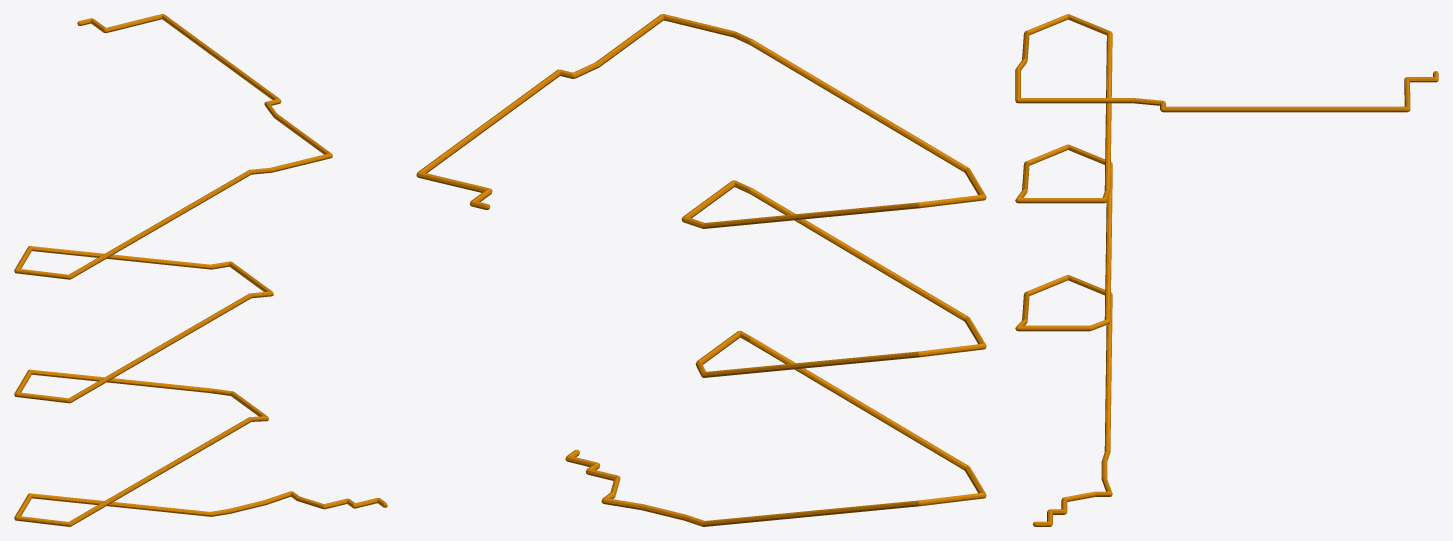
3 renders of one model, left to right at view 1: azimuth 30°, elevation 25°; view 2: azimuth 150°, elevation 25°; view 3: azimuth 270°, elevation 25°, orthographic. The views are drawn at different scales.
Size of the model in its own units: 1513 by 1520 by 1472.
